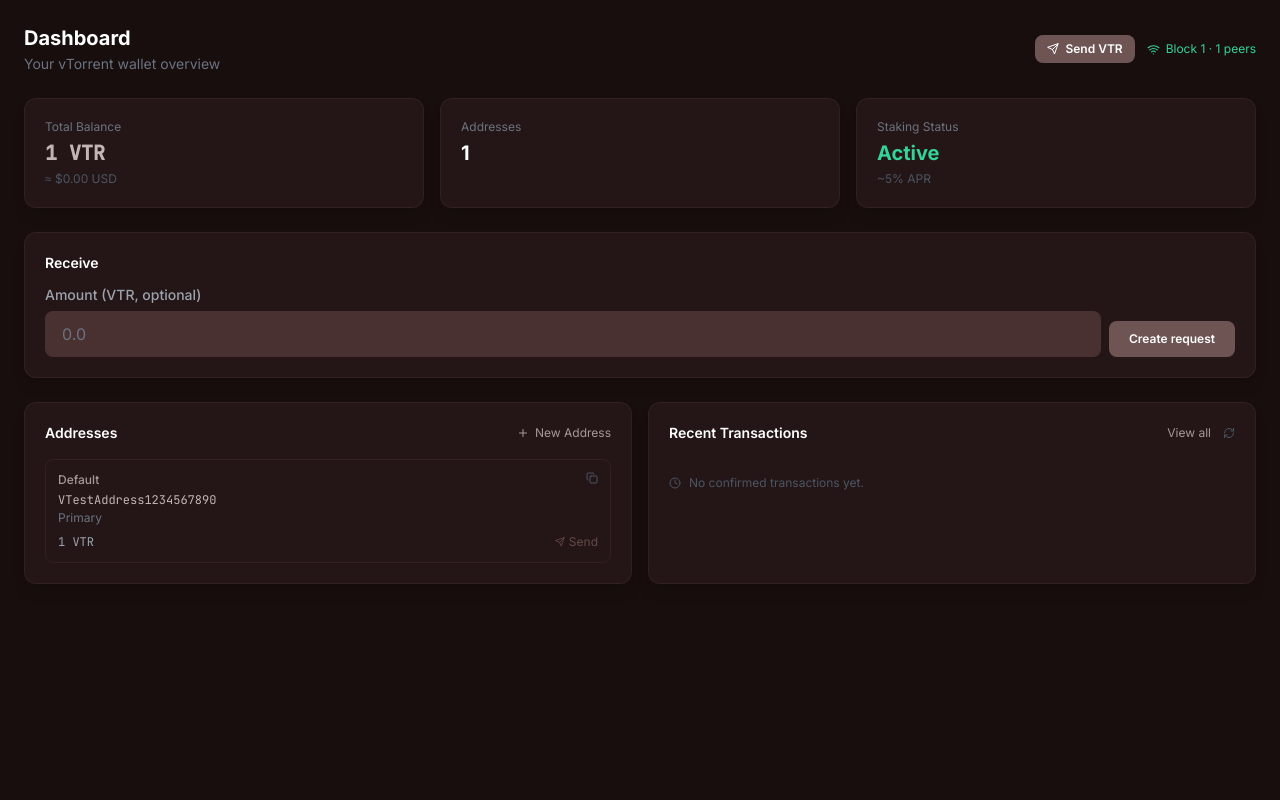
Test: send review › shows the backend quote before sending
Click the button "Send VTR".
click(1085, 49)  # box top-left (1035, 35), bottom-right (1135, 63)
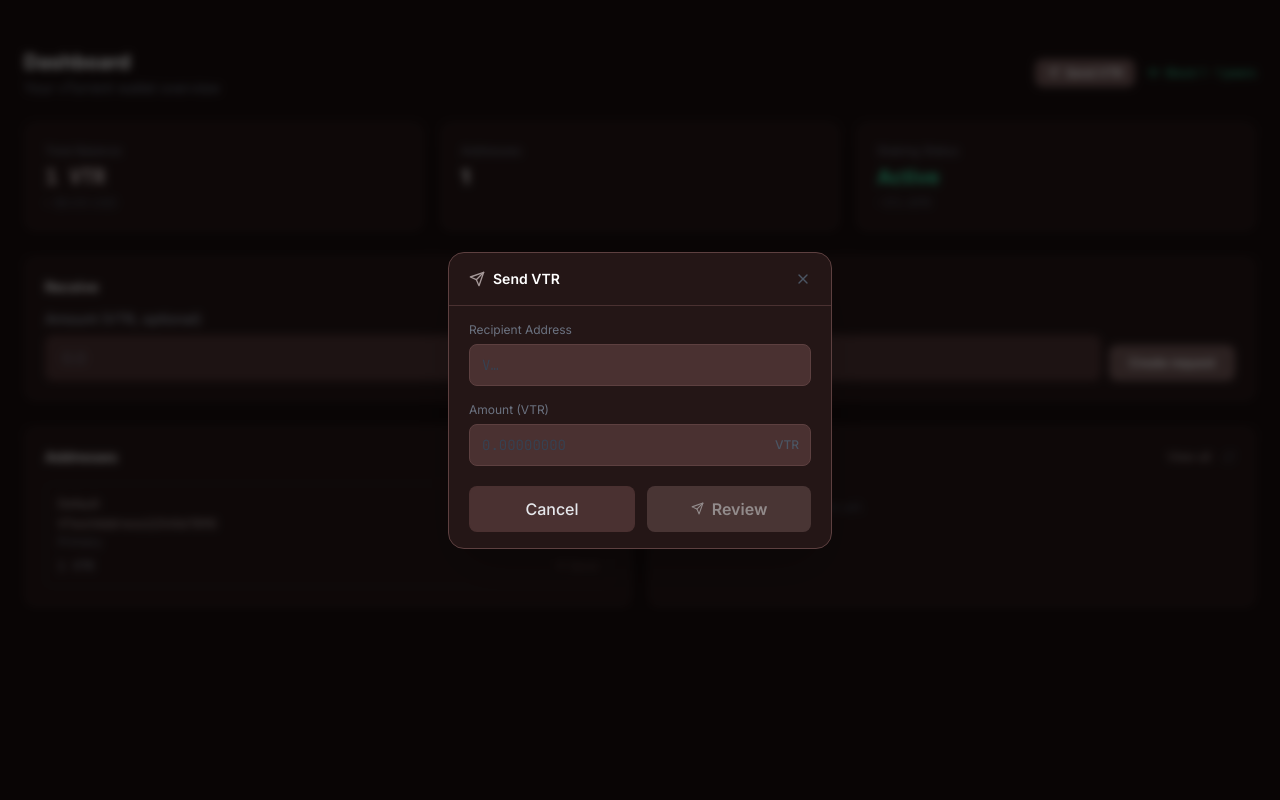
Type "VRecipient1234567890" into the field with placeholder "V…".
click(640, 364); type("VRecipient1234567890")  # box top-left (469, 344), bottom-right (811, 386)
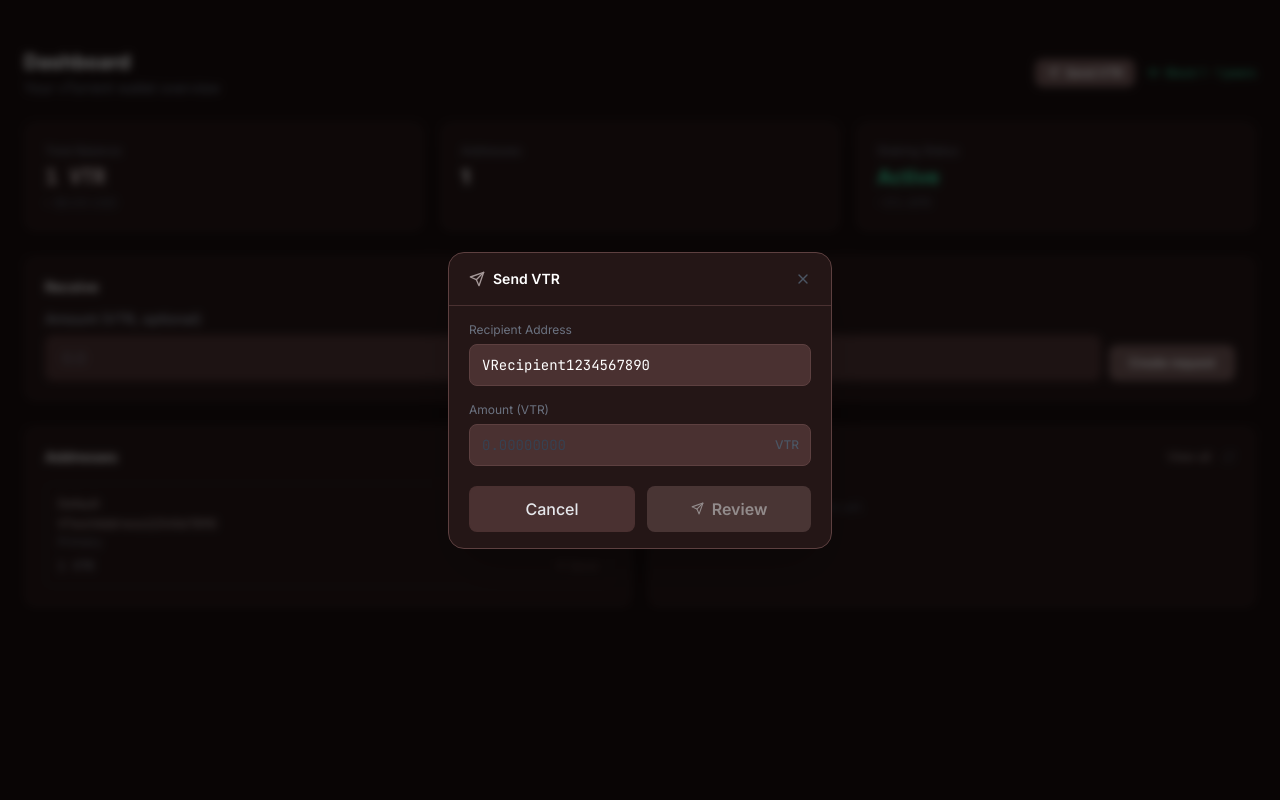
Type "1.5" into the field with placeholder "0.00000000".
click(640, 444); type("1.5")  # box top-left (469, 424), bottom-right (811, 466)
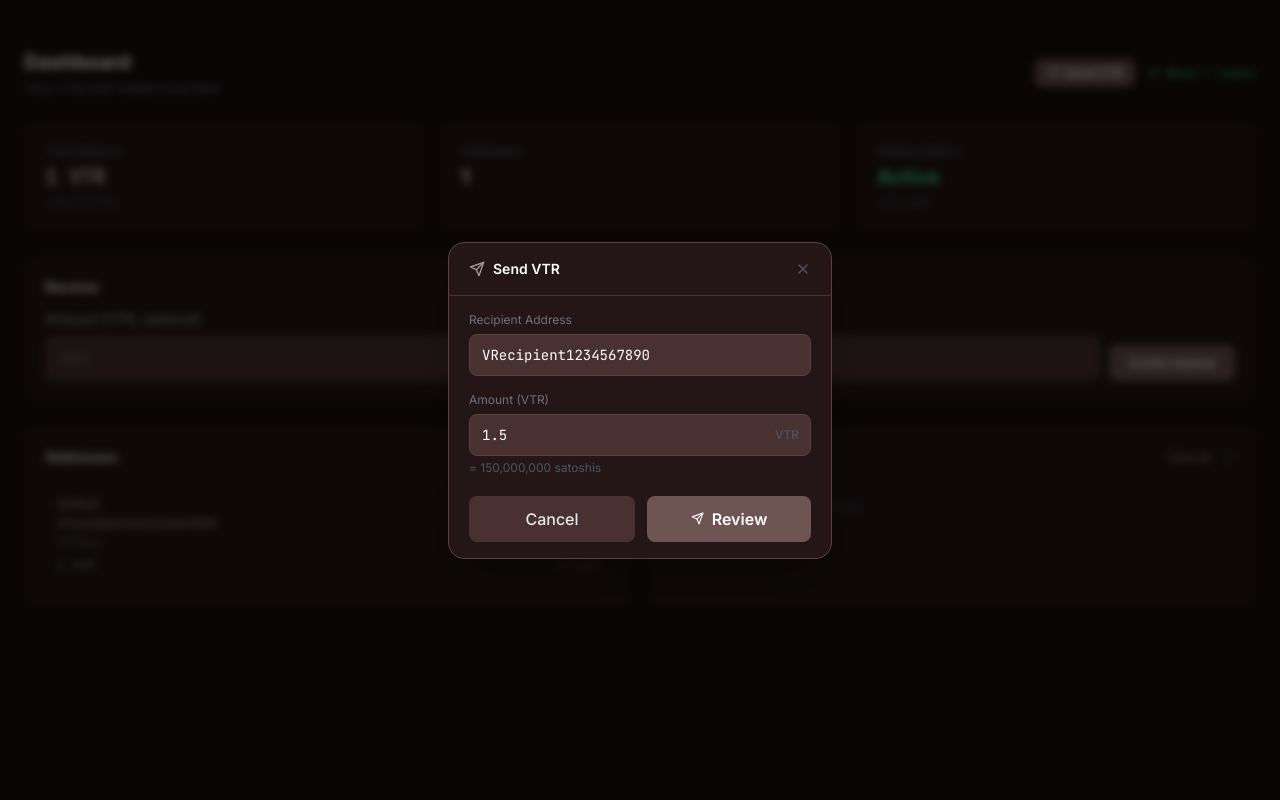
Click the button "Review".
click(729, 518)  # box top-left (647, 496), bottom-right (811, 542)
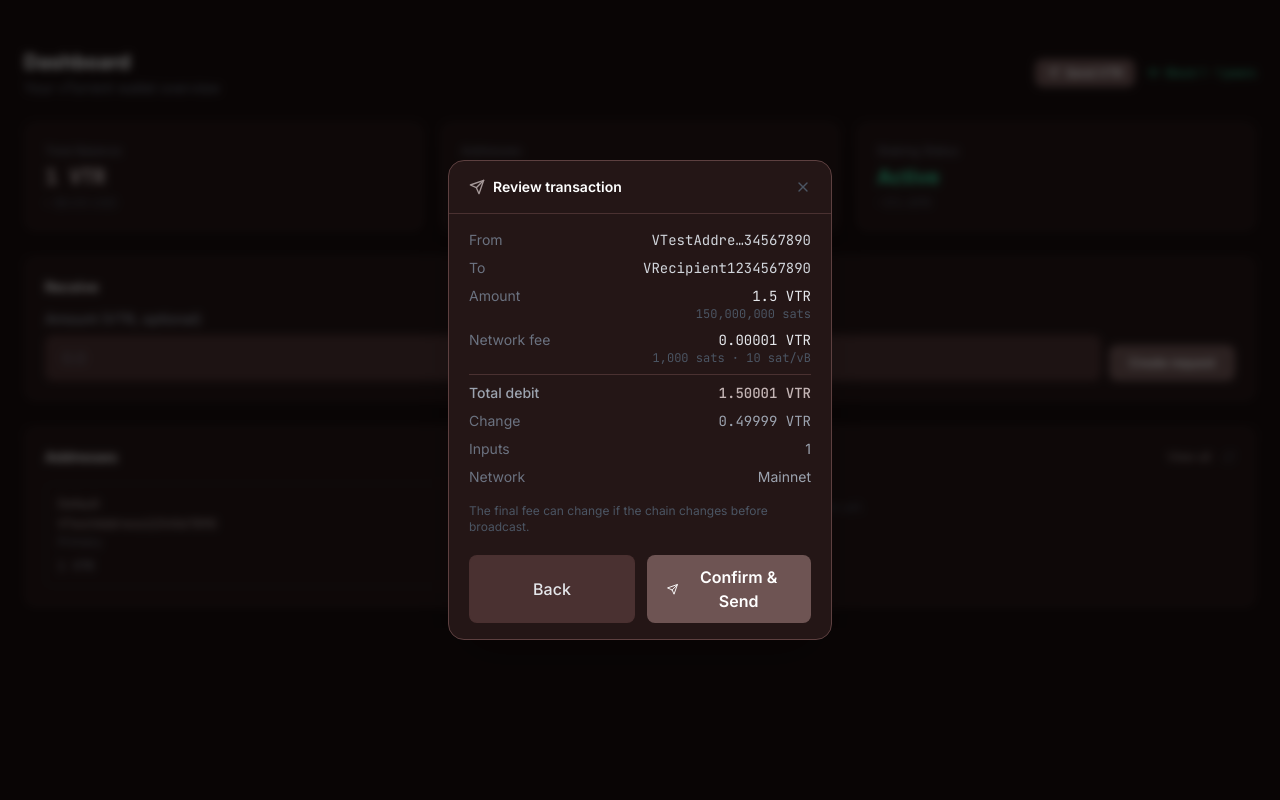
Check: the heading "Review transaction" is shown, box top-left (493, 177), bottom-right (622, 197)
Check: the text "Network fee" is shown, box top-left (469, 331), bottom-right (550, 348)
Check: the text "0.00001 VTR" is shown, box top-left (719, 331), bottom-right (811, 349)
Click the button "Confirm & Send".
click(729, 589)  # box top-left (647, 555), bottom-right (811, 623)
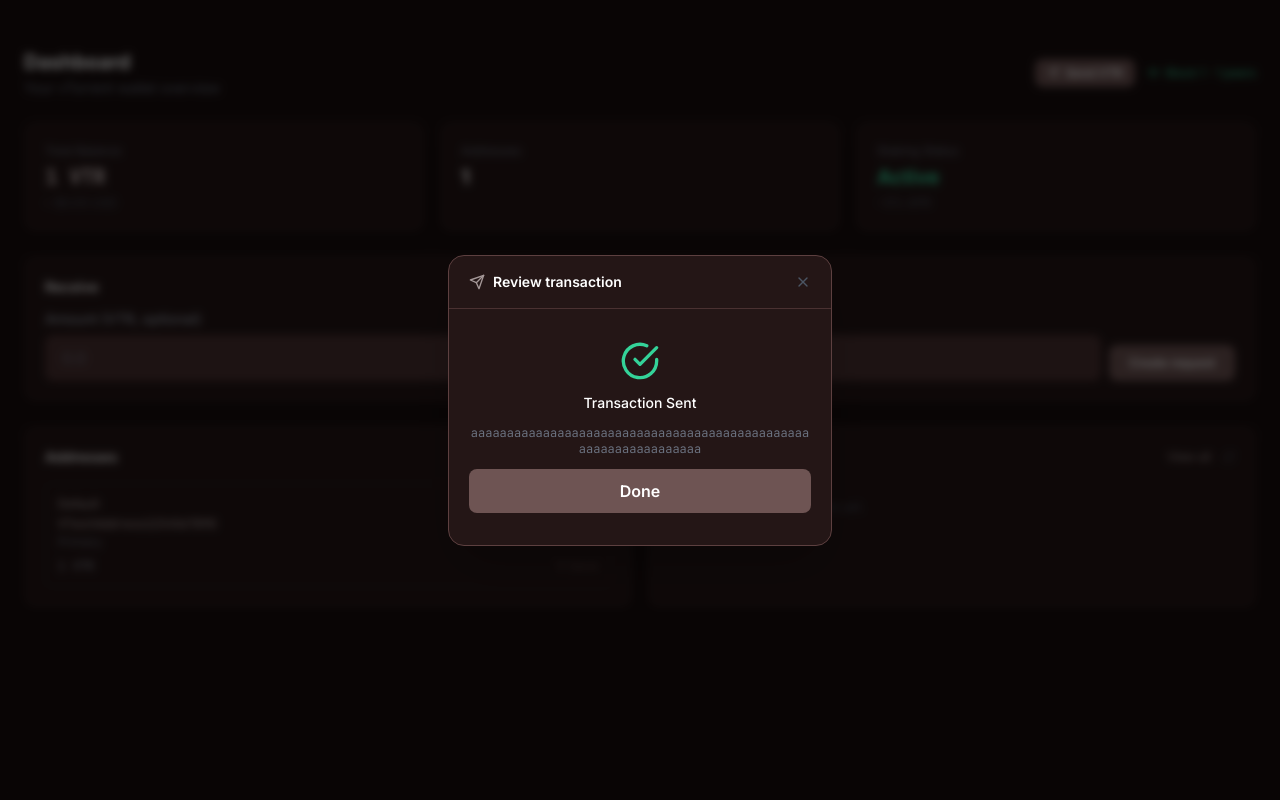
Check: the text "Transaction Sent" is shown, box top-left (584, 394), bottom-right (696, 410)
